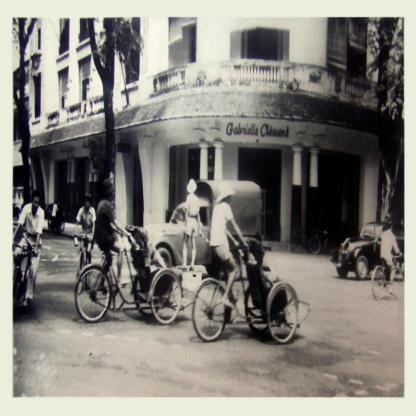Car: (331, 220, 406, 280)
